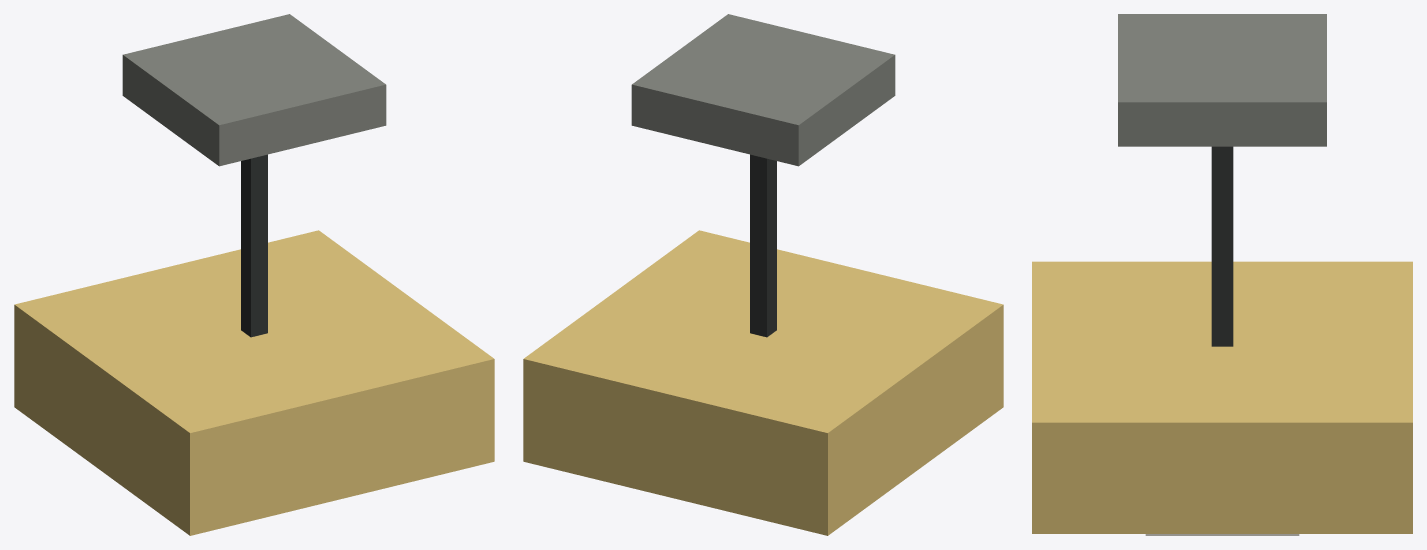
File: lamp.glb
3 renders of one model, left to right at view 1: azimuth 30°, elevation 25°; view 2: azimuth 150°, elevation 25°; view 3: azimuth 270°, elevation 25°, orthographic. The views are drawn at different scales.
Parts seen in each view (by area): view 1: shade, mount, cable; view 2: shade, mount, cable; view 3: shade, mount, cable.
Boxes of the visible parts, x1,y1,x2,y2 form: shade: [14, 230, 494, 535]; mount: [122, 14, 386, 166]; cable: [241, 154, 267, 337]; shade: [523, 230, 1003, 535]; mount: [631, 14, 895, 166]; cable: [750, 154, 776, 337]; shade: [1032, 261, 1412, 533]; mount: [1118, 14, 1326, 146]; cable: [1211, 146, 1233, 346].
Bounding box in the file's own units: 0.62 × 0.8 × 0.62.
